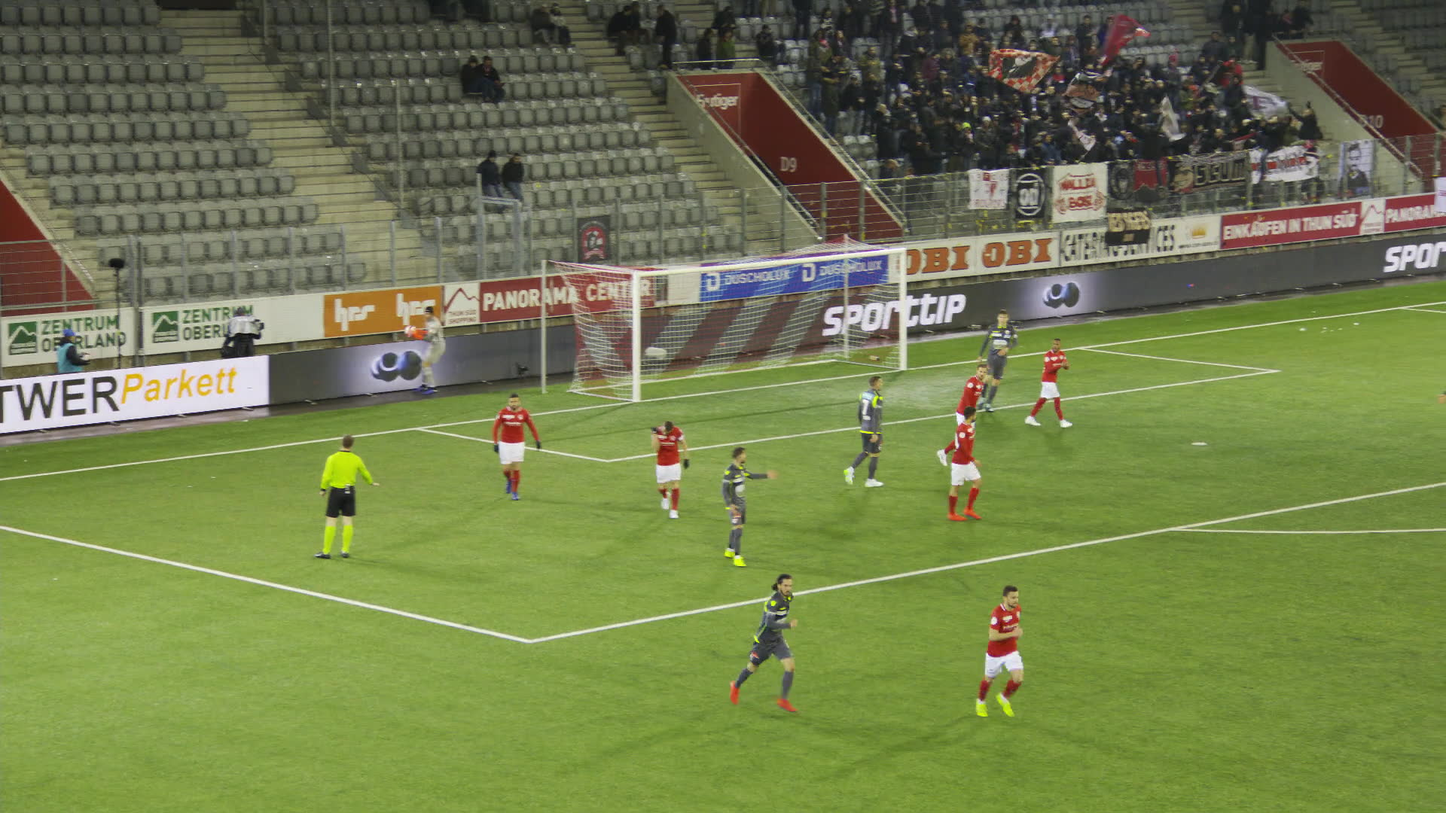ball: (404, 324, 415, 335)
player: (730, 573, 798, 712), (973, 585, 1026, 722), (721, 442, 777, 567), (932, 364, 987, 470), (838, 376, 887, 492), (486, 393, 535, 500), (940, 406, 984, 524), (1030, 336, 1076, 428), (650, 419, 690, 519), (976, 310, 1018, 404), (413, 307, 450, 395)
referee: (313, 434, 380, 562)
